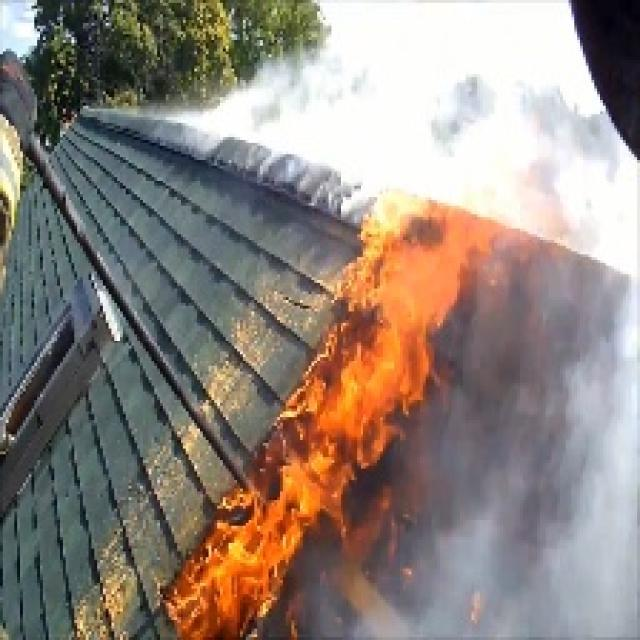Fire: (157, 194, 498, 640)
Smoke: (145, 0, 640, 197), (440, 274, 614, 614), (311, 548, 605, 640)
